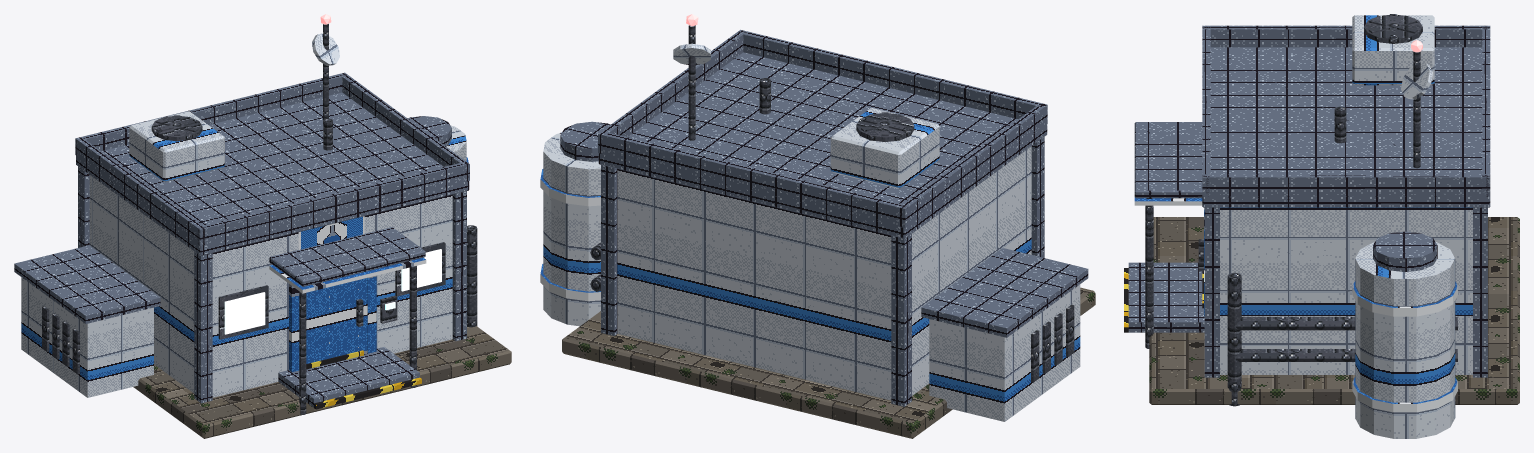
The model's file is silph_lab.glb.
3 views of the same model, side by side, from view 1: azimuth 30°, elevation 25°; view 2: azimuth 150°, elevation 25°; view 3: azimuth 270°, elevation 25° (orthographic). The views are drawn at different scales.
Parts seen in each view (by area): view 1: Lab, Door, Glow; view 2: Lab; view 3: Lab.
Boxes of the visible parts, x1,y1,x2,y2 form: Lab: (14,24,511,438); Door: (306,278,367,369); Glow: (224,14,441,334); Lab: (540,25,1095,438); Lab: (1124,14,1519,438).
Bounding box in the file's own units: 9.63 × 6.12 × 6.73.
Materials: 10 (7 with a texture image).
